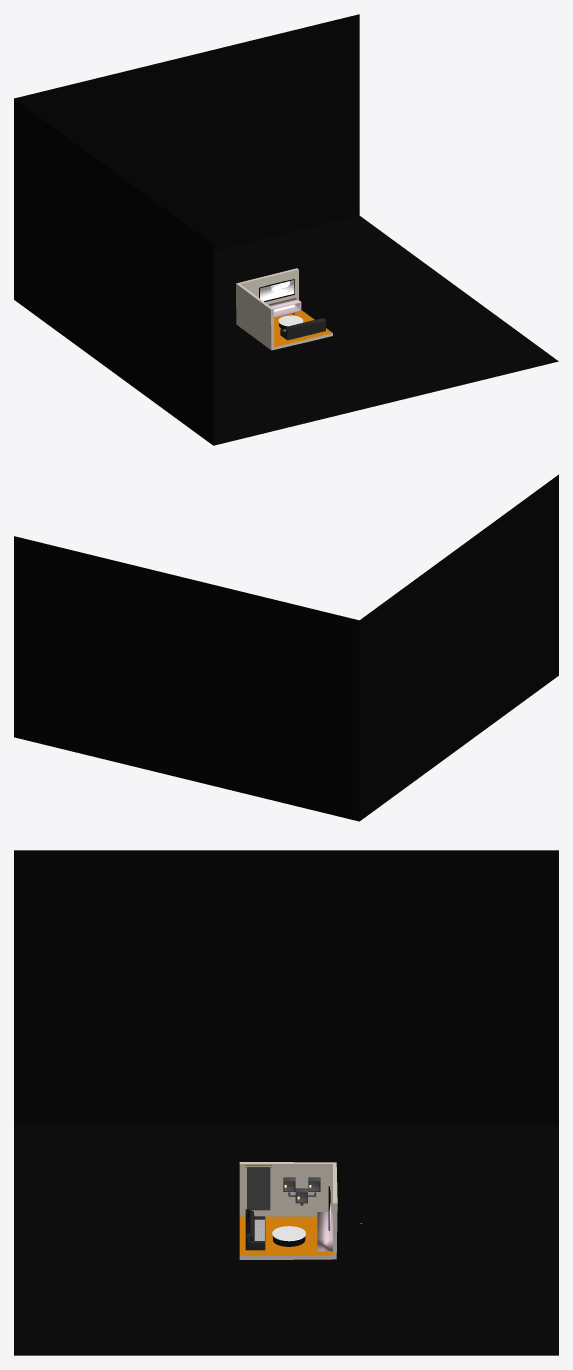
File: personal.gltf
3 views of the same model, one above another, from view 1: azimuth 30°, elevation 25°; view 2: azimuth 150°, elevation 25°; view 3: azimuth 270°, elevation 25° (orthographic). The views are drawn at different scales.
Visible parts, largest first — view 1: Sol, House, Canap', télé; view 2: Sol; view 3: Sol, House, Mur Plante, Plane, Plane.001, Table Basse.
Boxes of the visible parts, x1,y1,x2,y2 form: Sol: (14, 14, 558, 445); House: (236, 268, 332, 350); Canap': (280, 318, 325, 340); télé: (259, 279, 294, 301); Sol: (14, 474, 558, 821); Sol: (14, 850, 558, 1355); House: (239, 1162, 337, 1259); Mur Plante: (245, 1165, 271, 1210); Plane: (283, 1177, 320, 1205); Plane.001: (317, 1212, 332, 1251); Table Basse: (272, 1226, 305, 1246).
Size of what is drawn, in the model's own units: 46.8 by 27.17 by 46.8.
